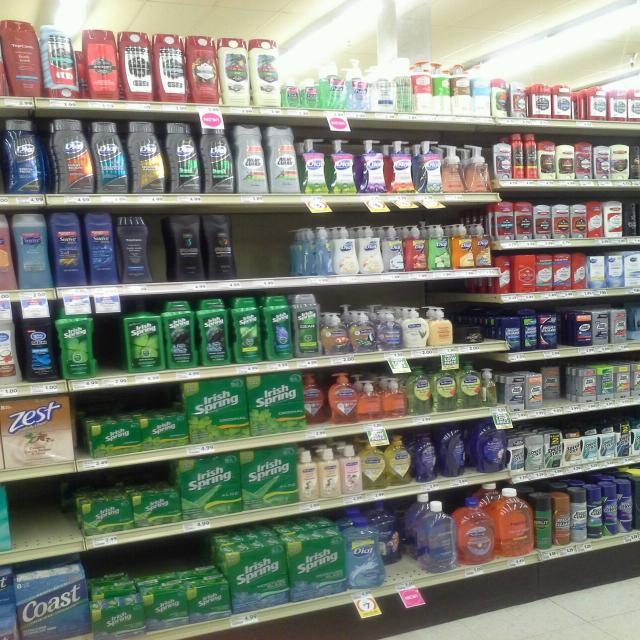unorganised: (380, 510, 417, 582), (438, 424, 466, 476), (303, 376, 330, 424), (431, 62, 452, 116), (532, 493, 552, 548), (313, 225, 332, 274), (542, 366, 567, 403), (490, 74, 508, 117), (481, 368, 498, 407), (572, 83, 589, 119)
